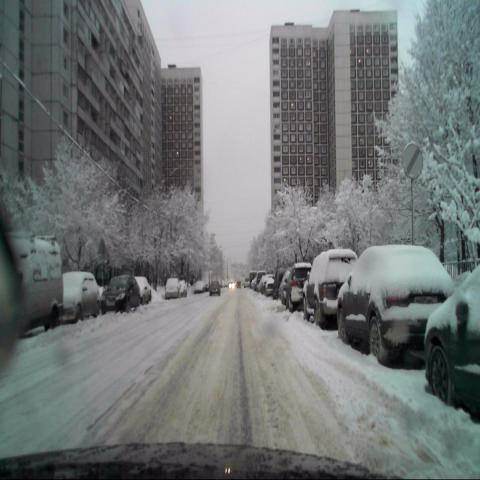3_31: (401, 140, 424, 181)
